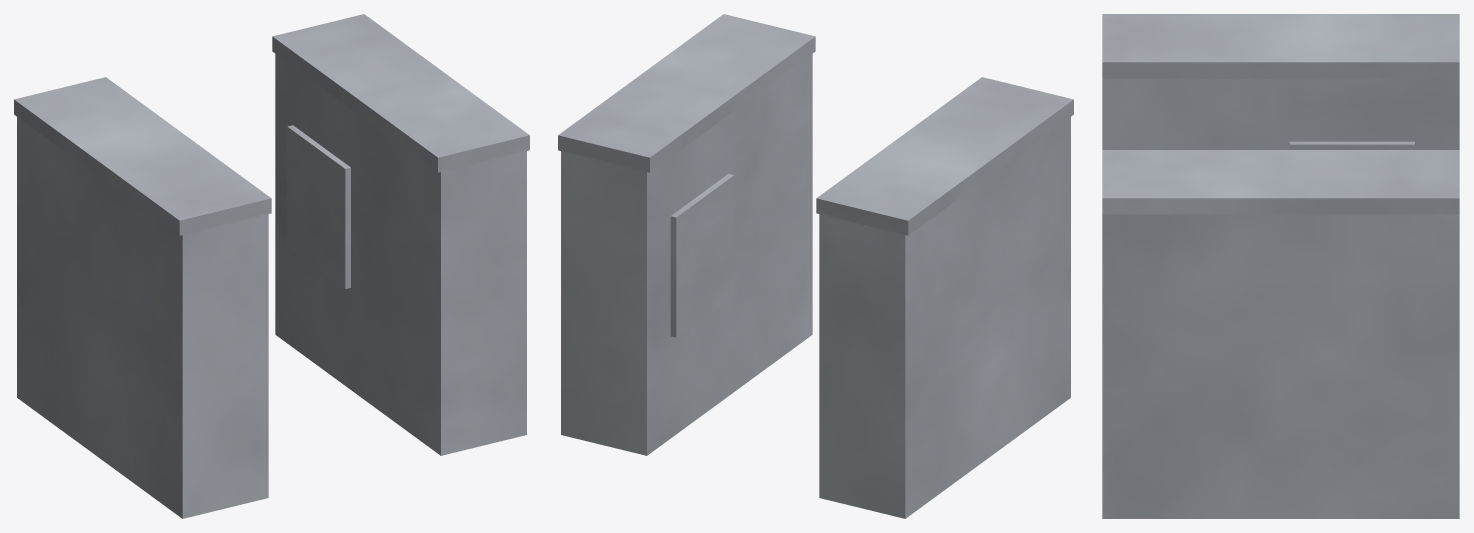
Rendered from ticket_gate.glb.
3 views of the same model, side by side, from view 1: azimuth 30°, elevation 25°; view 2: azimuth 150°, elevation 25°; view 3: azimuth 270°, elevation 25° (orthographic). The views are drawn at different scales.
Visible parts, largest first — view 1: ticket_gate; view 2: ticket_gate; view 3: ticket_gate.
Part boxes in pixels (left/top/right/bottom): ticket_gate: left=14, top=14, right=529, bottom=518; ticket_gate: left=558, top=14, right=1073, bottom=518; ticket_gate: left=1102, top=14, right=1459, bottom=518.
Size of the model in its own units: 1.22 by 0.995 by 1.
1 material, 1 textured.
